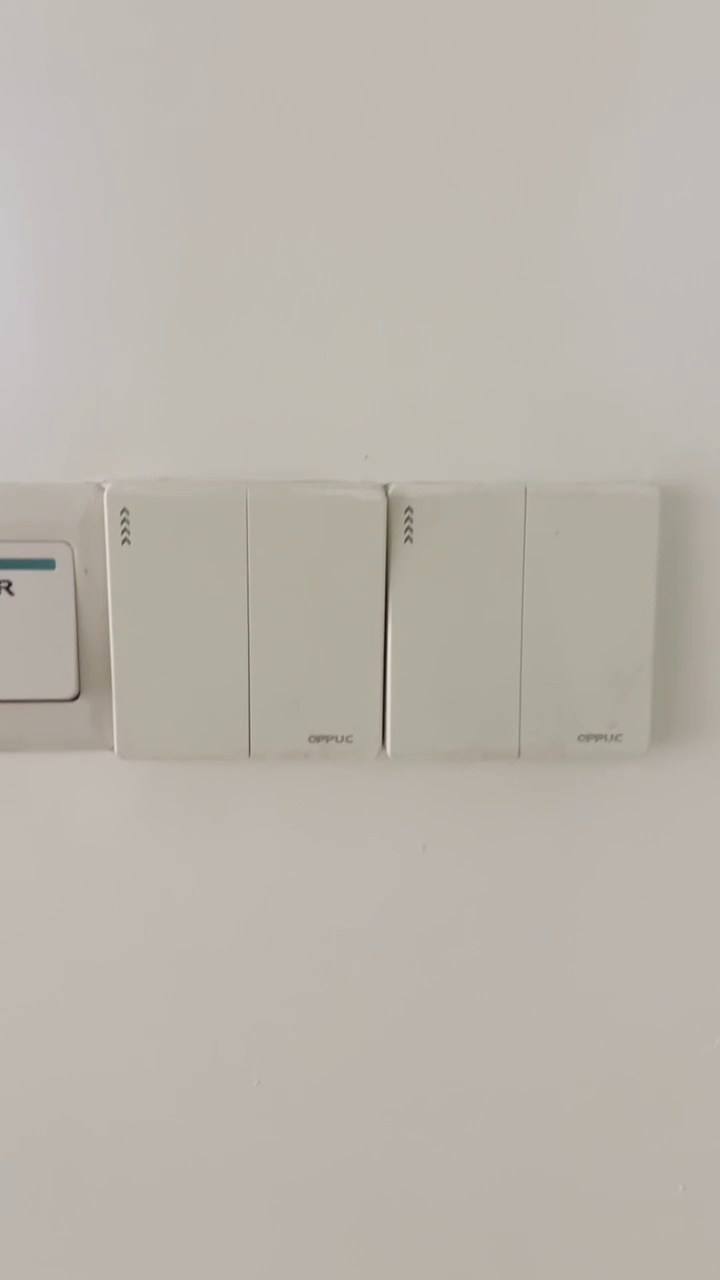button1: (114, 487, 245, 757), (248, 492, 381, 754), (393, 488, 520, 754), (526, 488, 649, 757)
